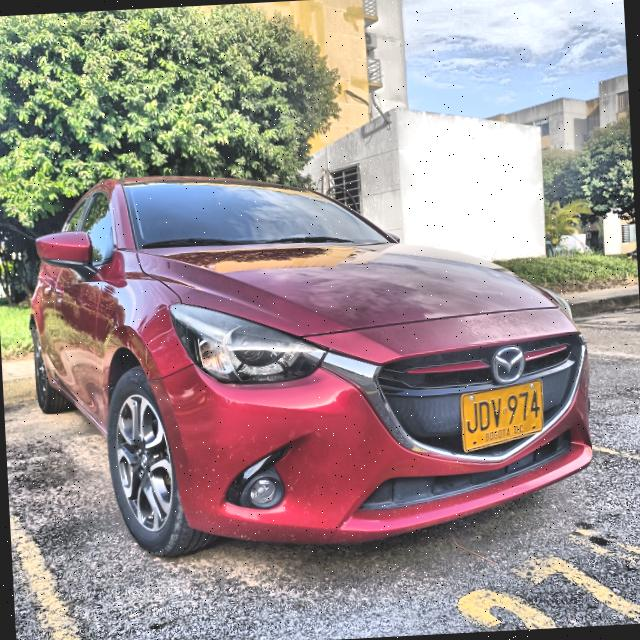4: (529, 389, 541, 420)
7: (518, 391, 529, 422)
9: (506, 393, 519, 425)
D: (477, 399, 492, 433)
J: (465, 401, 479, 436)
V: (490, 396, 503, 429)
